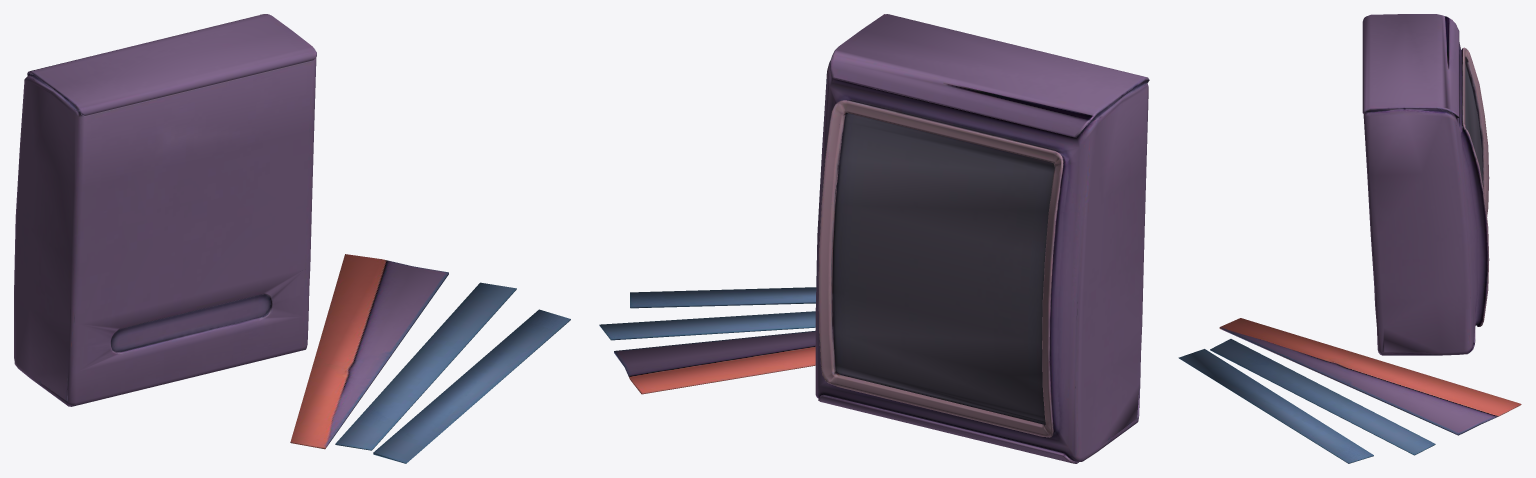
File: selected.glb
3 views of the same model, side by side, from view 1: azimuth 30°, elevation 25°; view 2: azimuth 150°, elevation 25°; view 3: azimuth 270°, elevation 25° (orthographic). The views are drawn at different scales.
Parts seen in each view (by area): view 1: tripo_node_8c78f509-ea43-4fce-8caf-467489e7300d; view 2: tripo_node_8c78f509-ea43-4fce-8caf-467489e7300d; view 3: tripo_node_8c78f509-ea43-4fce-8caf-467489e7300d.
Boxes of the visible parts, <box> form: tripo_node_8c78f509-ea43-4fce-8caf-467489e7300d: <box>14,14,570,463</box>; tripo_node_8c78f509-ea43-4fce-8caf-467489e7300d: <box>599,14,1149,463</box>; tripo_node_8c78f509-ea43-4fce-8caf-467489e7300d: <box>1178,14,1521,463</box>.
Bounding box in the file's own units: 0.998 × 0.6426 × 0.7637.
1 material, 1 textured.
